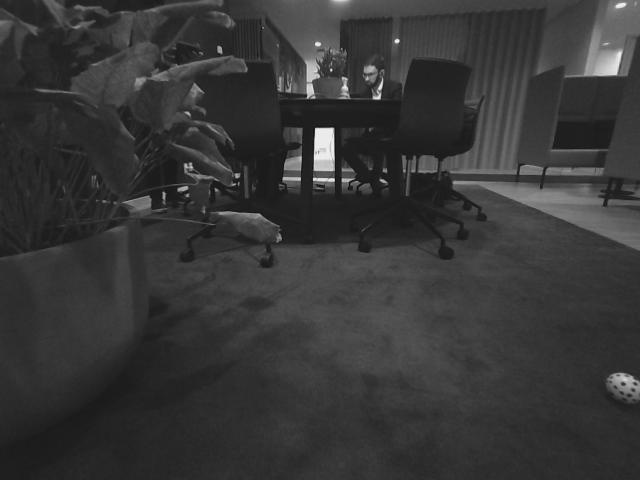dogtoy: (592, 358, 640, 418)
